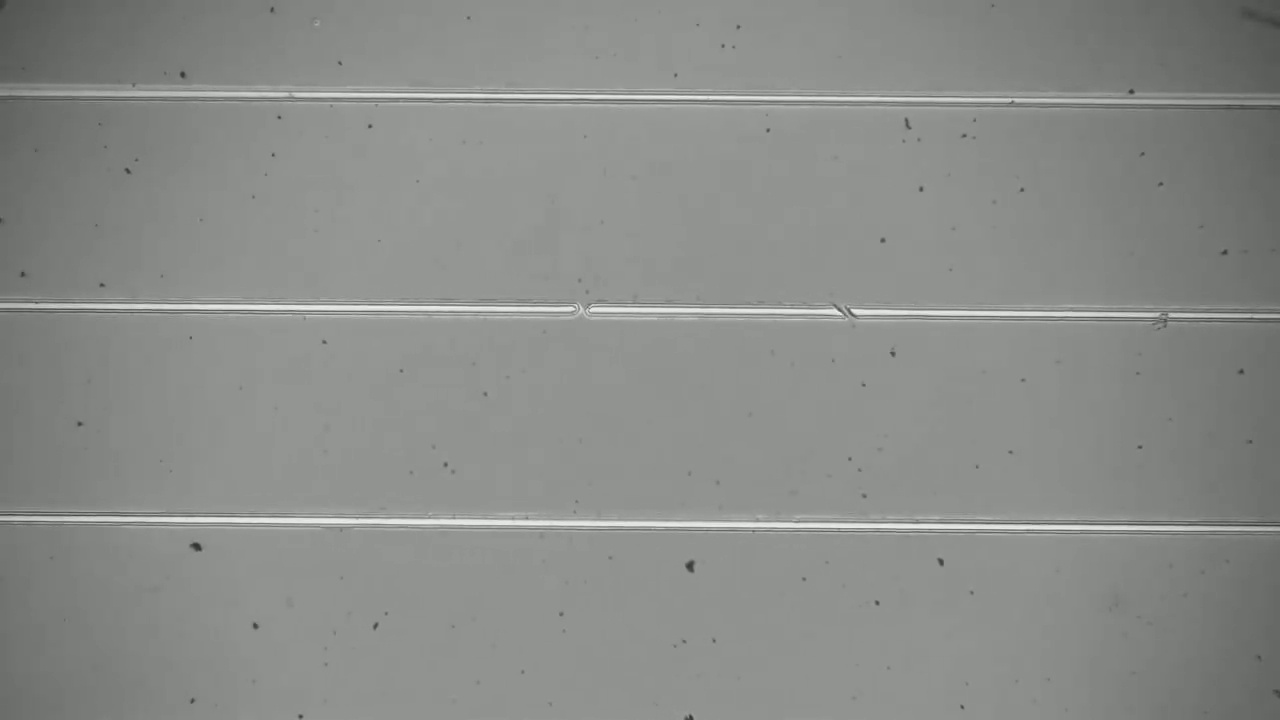open: (563, 290, 605, 329), (822, 295, 867, 330)
stains_enbedded: (1139, 299, 1184, 340)
